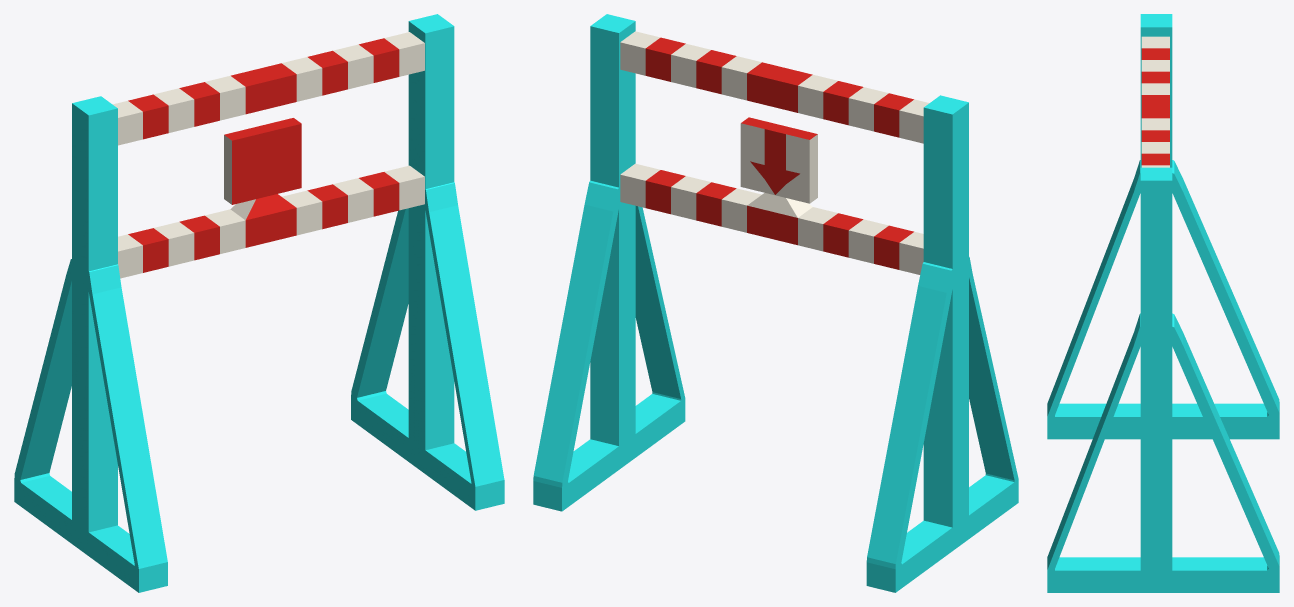
File: slide_snag.fbx
3 renders of one model, left to right at view 1: azimuth 30°, elevation 25°; view 2: azimuth 150°, elevation 25°; view 3: azimuth 270°, elevation 25°, orthographic. The views are drawn at different scales.
Parts seen in each view (by area): view 1: Slide_snag, Slide_snag2; view 2: Slide_snag, Slide_snag2; view 3: Slide_snag, Slide_snag2.
Boxes of the visible parts, x1=… form: Slide_snag: x1=14, y1=14, x2=504, y2=592; Slide_snag2: x1=113, y1=32, x2=424, y2=278; Slide_snag: x1=533, y1=14, x2=1018, y2=592; Slide_snag2: x1=620, y1=31, x2=929, y2=274; Slide_snag: x1=1047, y1=14, x2=1279, y2=592; Slide_snag2: x1=1141, y1=36, x2=1169, y2=167.
Bounding box in the file's own units: 435 × 501 × 256.
